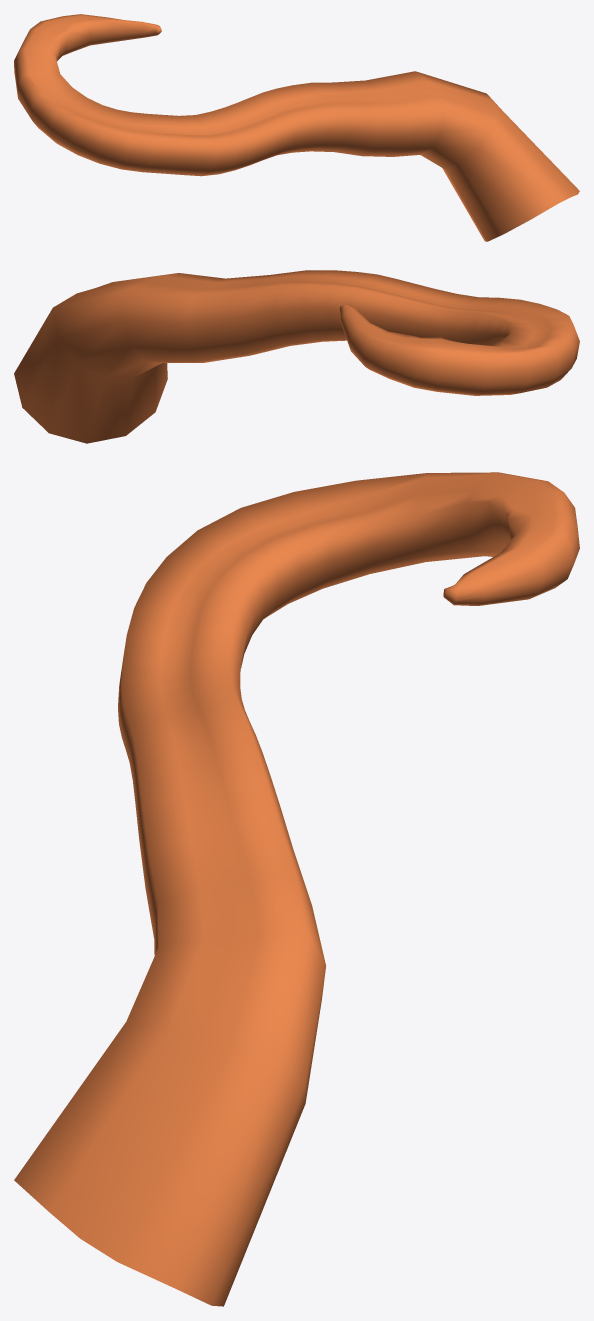
Rendered from SM_PlatformRootZ1001.fbx.
3 renders of one model, top to bottom at view 1: azimuth 30°, elevation 25°; view 2: azimuth 150°, elevation 25°; view 3: azimuth 270°, elevation 25°, orthographic. The views are drawn at different scales.
Parts seen in each view (by area): view 1: SM_RootPlatform; view 2: SM_RootPlatform; view 3: SM_RootPlatform.
Boxes of the visible parts, <box> form: SM_RootPlatform: <box>14,14,579,241</box>; SM_RootPlatform: <box>14,270,579,443</box>; SM_RootPlatform: <box>14,472,579,1306</box>.
Size of the model in its own units: 21193 by 9567 by 10810.
